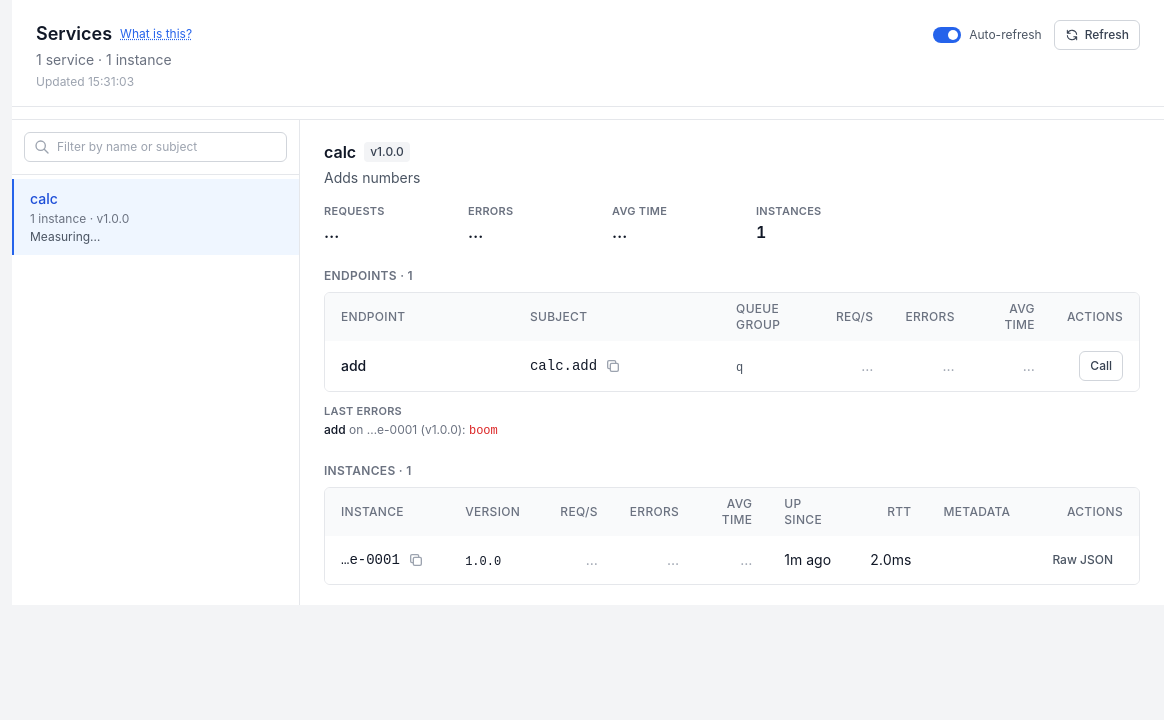
Test: ServicesPage › keeps the last answers when a refresh fails
Expected: the element with test id "service-detail" is shown, [300, 120, 1163, 605]
Click the button "Refresh" at (1097, 35), box [1054, 20, 1140, 50]
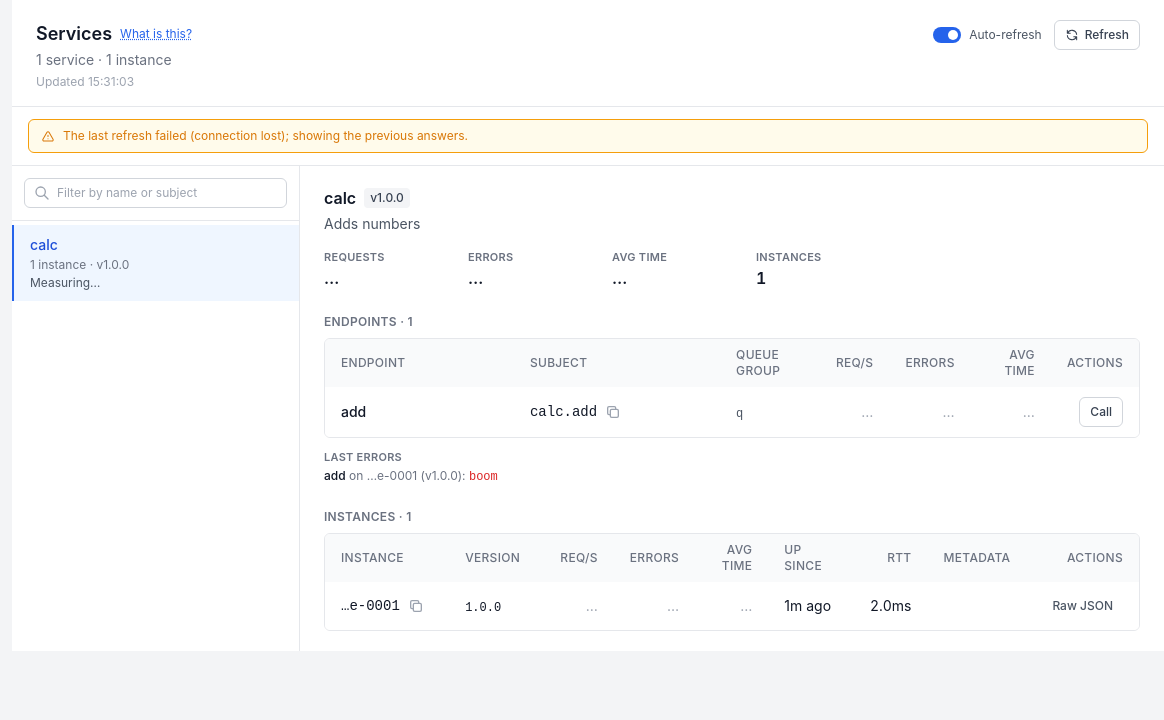
Expected: the element with test id "service-detail" is shown, [300, 166, 1163, 651]
Expected: the element with test id "services-refresh-failed" shows "connection lost", [194, 128, 281, 143]
